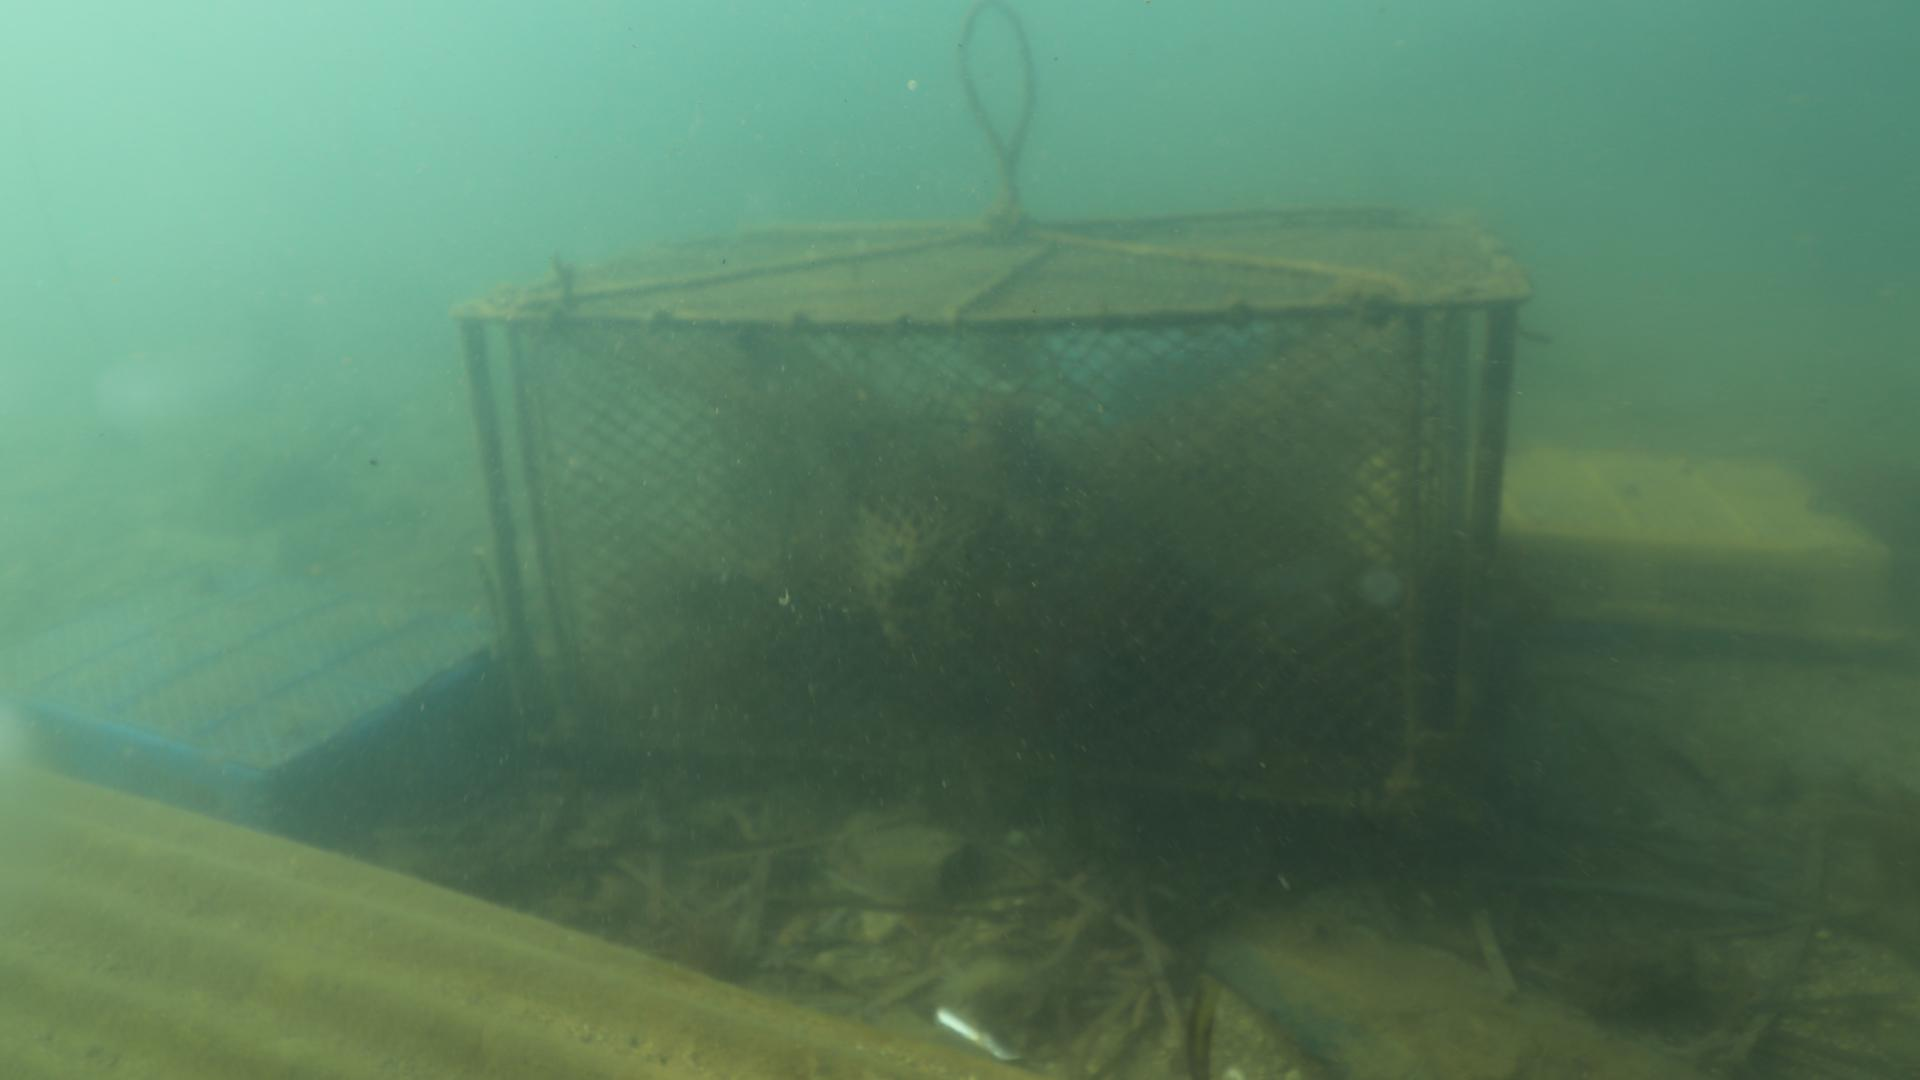bundle of ropes: (947, 3, 1039, 215)
rectangular fish trap: (455, 208, 1534, 828)
